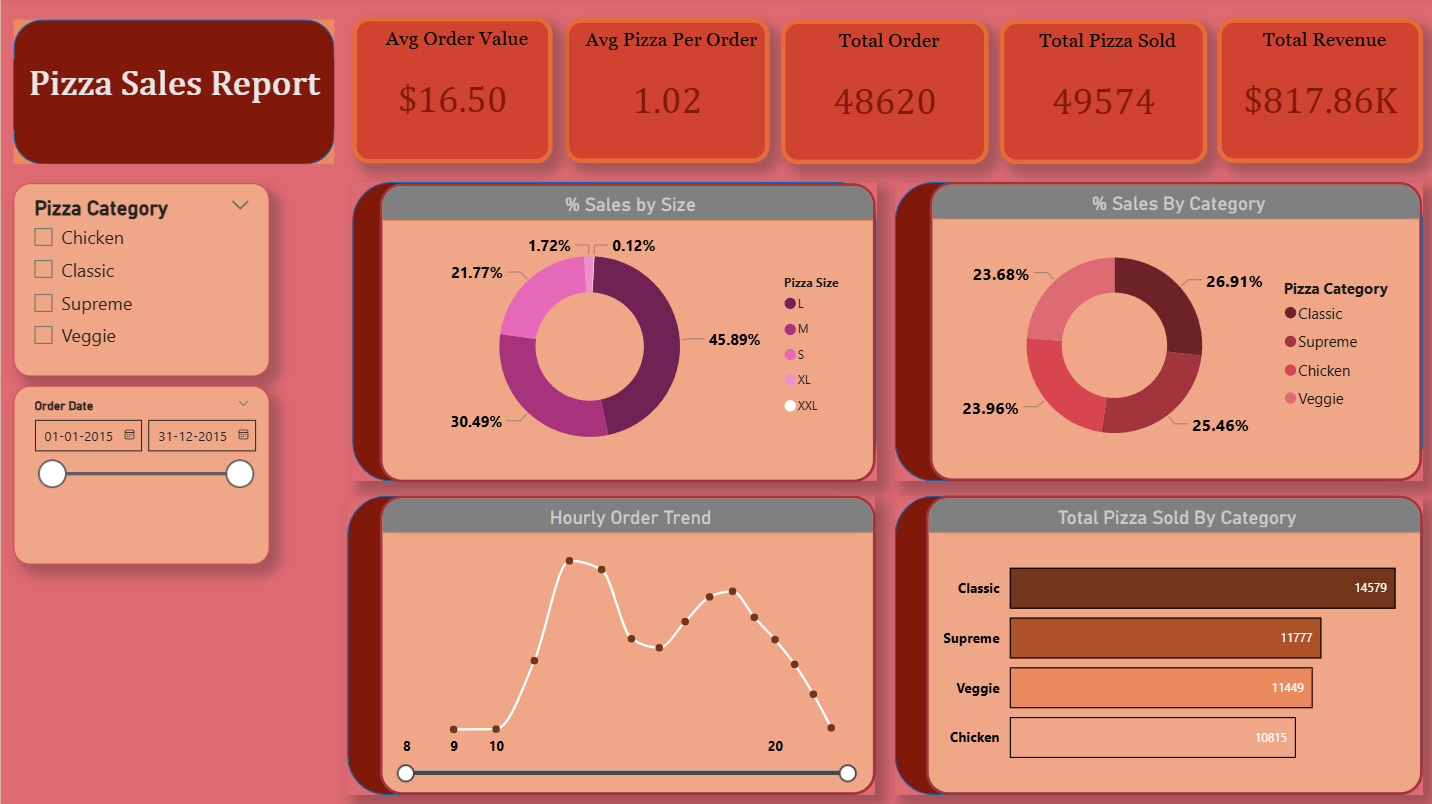

What the dashboard file says about the page in this screenshot:
{"tool":"powerbi","page":{"name":"Page 2","canvas":[1280,720],"ordinal":1},"visuals":[{"type":"card","title":"Avg Pizza Per Order","fields":{"Values":["public pizza_sales.average_pizza per order"]},"box":[501.9,19.3,182.2,129.1],"z":0},{"type":"card","title":"Avg Order Value","fields":{"Values":["public pizza_sales.Average order value"]},"box":[312.5,17.5,178.8,130],"z":1000},{"type":"card","title":"Total Order","fields":{"Values":["public pizza_sales.Total_order"]},"box":[694.9,20.5,184.6,129.1],"z":2000},{"type":"card","title":"Total Pizza Sold","fields":{"Values":["public pizza_sales.Total_pizza_sold"]},"box":[889.1,20.5,184.6,129.1],"z":3000},{"type":"card","title":"Total Revenue","fields":{"Values":["public pizza_sales.total_revenue"]},"box":[1083.4,19.3,183.4,129.1],"z":4000},{"type":"shape","title":"Pi","box":[10.9,20.5,285.9,129.1],"z":5000},{"type":"textbox","box":[10.9,55.5,285.9,62.7],"z":6000},{"type":"shape","box":[312.5,165.3,466.9,266.6],"z":7000},{"type":"shape","box":[796.3,165.3,470.5,266.6],"z":8000},{"type":"shape","box":[796.3,444,470.5,266.6],"z":9000},{"type":"shape","box":[308.8,444,470.5,266.6],"z":10000},{"type":"donutChart","title":"% Sales by Size","fields":{"Category":["public pizza_sales.pizza_size"],"Y":["Sum(public pizza_sales.total_price)"]},"box":[337.4,165.6,441.7,266.3],"z":11000},{"type":"barChart","title":"Total Pizza Sold By Category","fields":{"Category":["public pizza_sales.pizza_category"],"Y":["Count(public pizza_sales.order_details_id)"]},"box":[823.8,443.8,442.5,266.2],"z":12000},{"type":"lineChart","title":"Hourly Order Trend","fields":{"Category":["public pizza_sales.Hour"],"Y":["Count(public pizza_sales.order_details_id)"]},"box":[337.4,444.2,441.7,266.3],"z":13000},{"type":"donutChart","title":"% Sales By Category","fields":{"Y":["Sum(public pizza_sales.total_price)"],"Category":["public pizza_sales.pizza_category"]},"box":[827.5,165,438.8,266.2],"z":14000},{"type":"slicer","title":"Pizza Category","fields":{"Values":["public pizza_sales.pizza_category"]},"box":[11,165.6,228.2,171.8],"z":15000},{"type":"slicer","title":"Pizza Category","fields":{"Values":["public pizza_sales.order_date"]},"box":[11,346,228.2,159.5],"z":16000}]}

Visuals, with their boxes in screenshot pixels (x1, y1, x2, y2), scaled from the page's 1280x720 canvas onto the 1432x804 screenshot:
"Avg Pizza Per Order" card: <box>562,22,765,166</box>
"Avg Order Value" card: <box>350,20,550,165</box>
"Total Order" card: <box>777,23,984,167</box>
"Total Pizza Sold" card: <box>995,23,1201,167</box>
"Total Revenue" card: <box>1212,22,1417,166</box>
"Pi" shape: <box>12,23,332,167</box>
textbox: <box>12,62,332,132</box>
shape: <box>350,185,872,482</box>
shape: <box>891,185,1417,482</box>
shape: <box>891,496,1417,794</box>
shape: <box>345,496,872,794</box>
"% Sales by Size" donutChart: <box>377,185,872,482</box>
"Total Pizza Sold By Category" barChart: <box>922,496,1417,793</box>
"Hourly Order Trend" lineChart: <box>377,496,872,793</box>
"% Sales By Category" donutChart: <box>926,184,1417,482</box>
"Pizza Category" slicer: <box>12,185,268,377</box>
"Pizza Category" slicer: <box>12,386,268,564</box>
